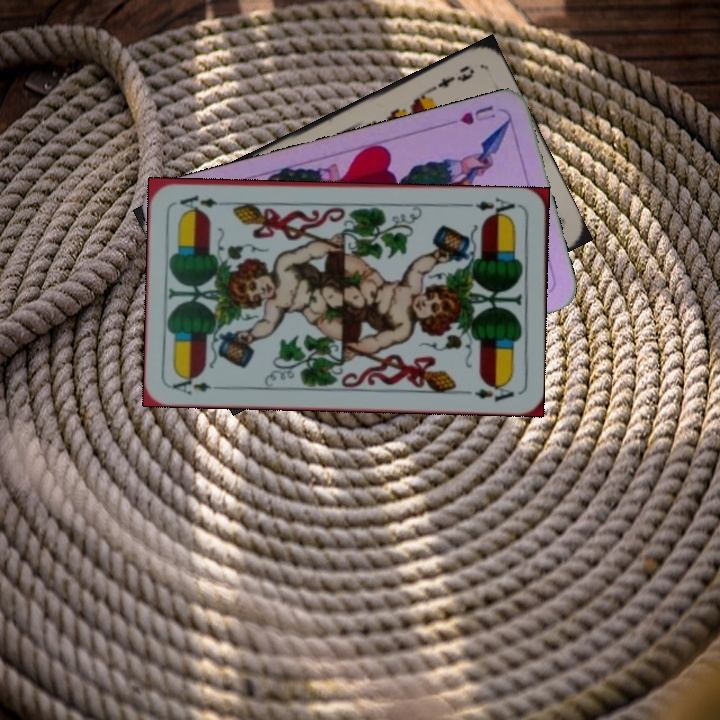E9: (424, 61, 477, 95)
EA: (463, 193, 522, 221), (168, 371, 213, 398)
HU: (455, 101, 498, 128)
